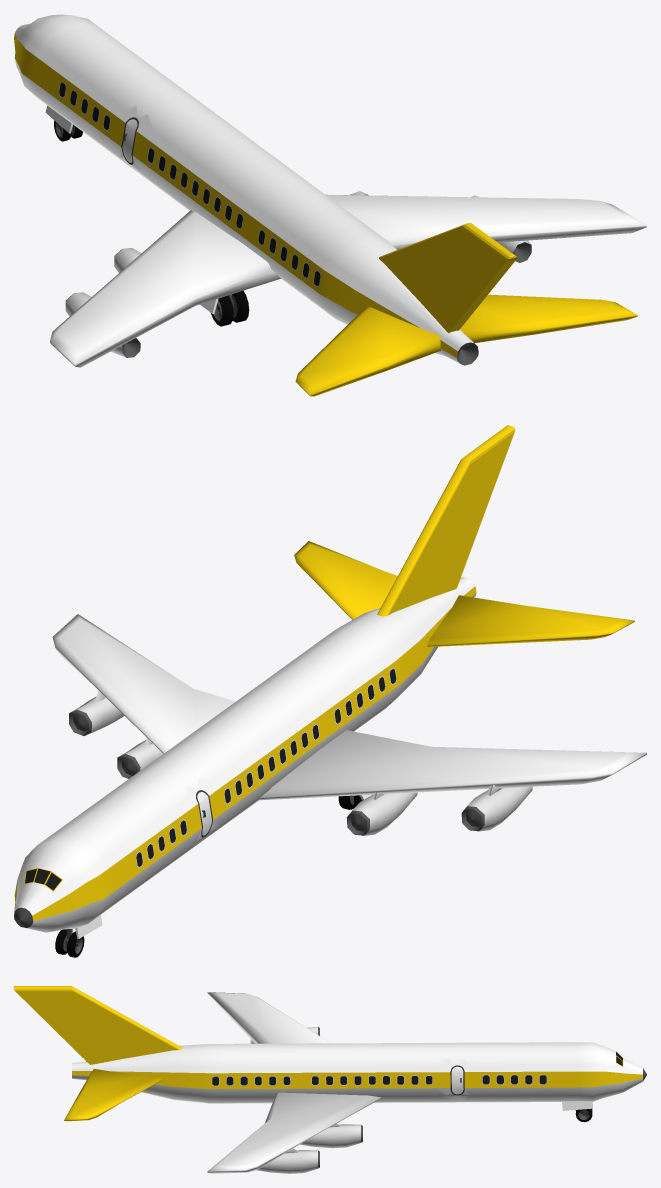
The model's file is Airplane.fbx.
3 views of the same model, one above another, from view 1: azimuth 30°, elevation 25°; view 2: azimuth 150°, elevation 25°; view 3: azimuth 270°, elevation 25° (orthographic). The views are drawn at different scales.
Parts seen in each view (by area): view 1: Main Body, Secondary Body, Engine, Windows, Wheels, Detail, Doors; view 2: Main Body, Secondary Body, Engine, Windows, Detail, Wheels; view 3: Main Body, Secondary Body, Engine, Windows, Detail, Doors.
Boxes of the visible parts, x1=… form: Main Body: x1=15, y1=14, x2=646, y2=367; Secondary Body: x1=14, y1=33, x2=637, y2=396; Engine: x1=65, y1=191, x2=531, y2=357; Windows: x1=59, y1=82, x2=320, y2=285; Wheels: x1=54, y1=120, x2=249, y2=326; Detail: x1=58, y1=81, x2=320, y2=287; Doors: x1=121, y1=117, x2=138, y2=164; Main Body: x1=15, y1=577, x2=646, y2=939; Secondary Body: x1=14, y1=425, x2=634, y2=921; Engine: x1=69, y1=690, x2=532, y2=835; Windows: x1=25, y1=669, x2=396, y2=890; Detail: x1=135, y1=667, x2=396, y2=868; Wheels: x1=55, y1=795, x2=362, y2=957; Main Body: x1=72, y1=992, x2=642, y2=1173; Secondary Body: x1=14, y1=986, x2=642, y2=1121; Engine: x1=250, y1=1026, x2=362, y2=1173; Windows: x1=212, y1=1052, x2=622, y2=1085; Detail: x1=211, y1=1074, x2=547, y2=1086; Doors: x1=450, y1=1065, x2=464, y2=1095.
Bounding box in the file's own units: 3833 × 1348 × 5717.
